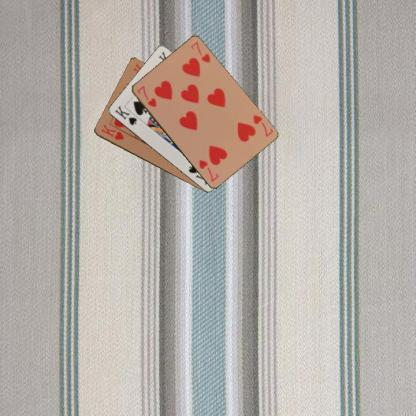7h: (250, 112, 275, 138), (134, 83, 157, 109)
Kh: (98, 122, 125, 141)
Ks: (112, 103, 138, 126)
